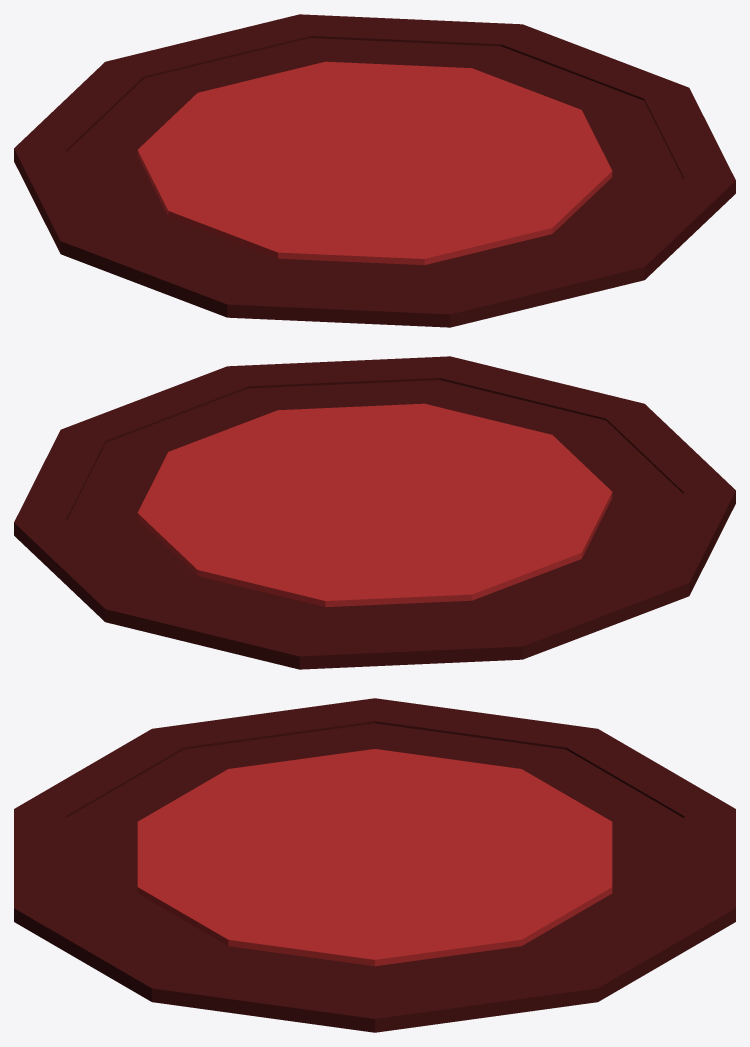
File: Goal.obj
3 views of the same model, one above another, from view 1: azimuth 30°, elevation 25°; view 2: azimuth 150°, elevation 25°; view 3: azimuth 270°, elevation 25° (orthographic). The views are drawn at different scales.
Parts seen in each view (by area): view 1: pCylinder4, pCylinder3; view 2: pCylinder4, pCylinder3; view 3: pCylinder4, pCylinder3.
Boxes of the visible parts, x1=… form: pCylinder4: x1=14, y1=14, x2=735, y2=327; pCylinder3: x1=137, y1=61, x2=612, y2=265; pCylinder4: x1=14, y1=356, x2=735, y2=669; pCylinder3: x1=137, y1=403, x2=612, y2=607; pCylinder4: x1=14, y1=698, x2=735, y2=1032; pCylinder3: x1=137, y1=749, x2=612, y2=966.
Bounding box in the file's own units: 10 × 0.2614 × 9.51.
